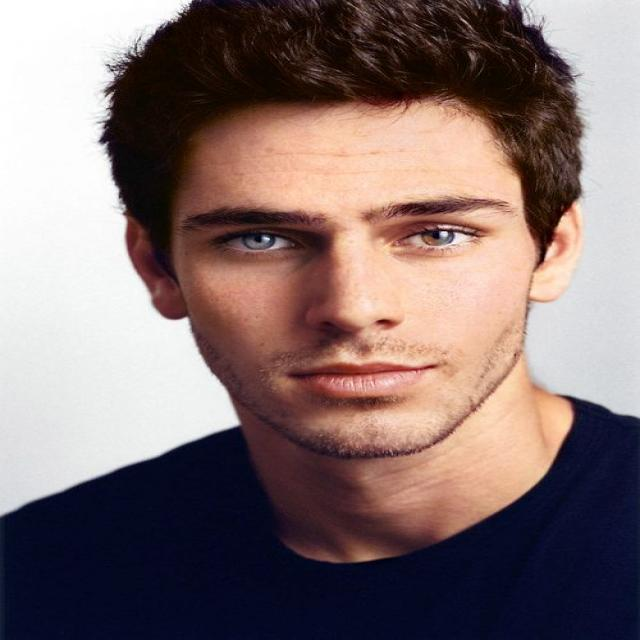front: (200, 137, 510, 426)
